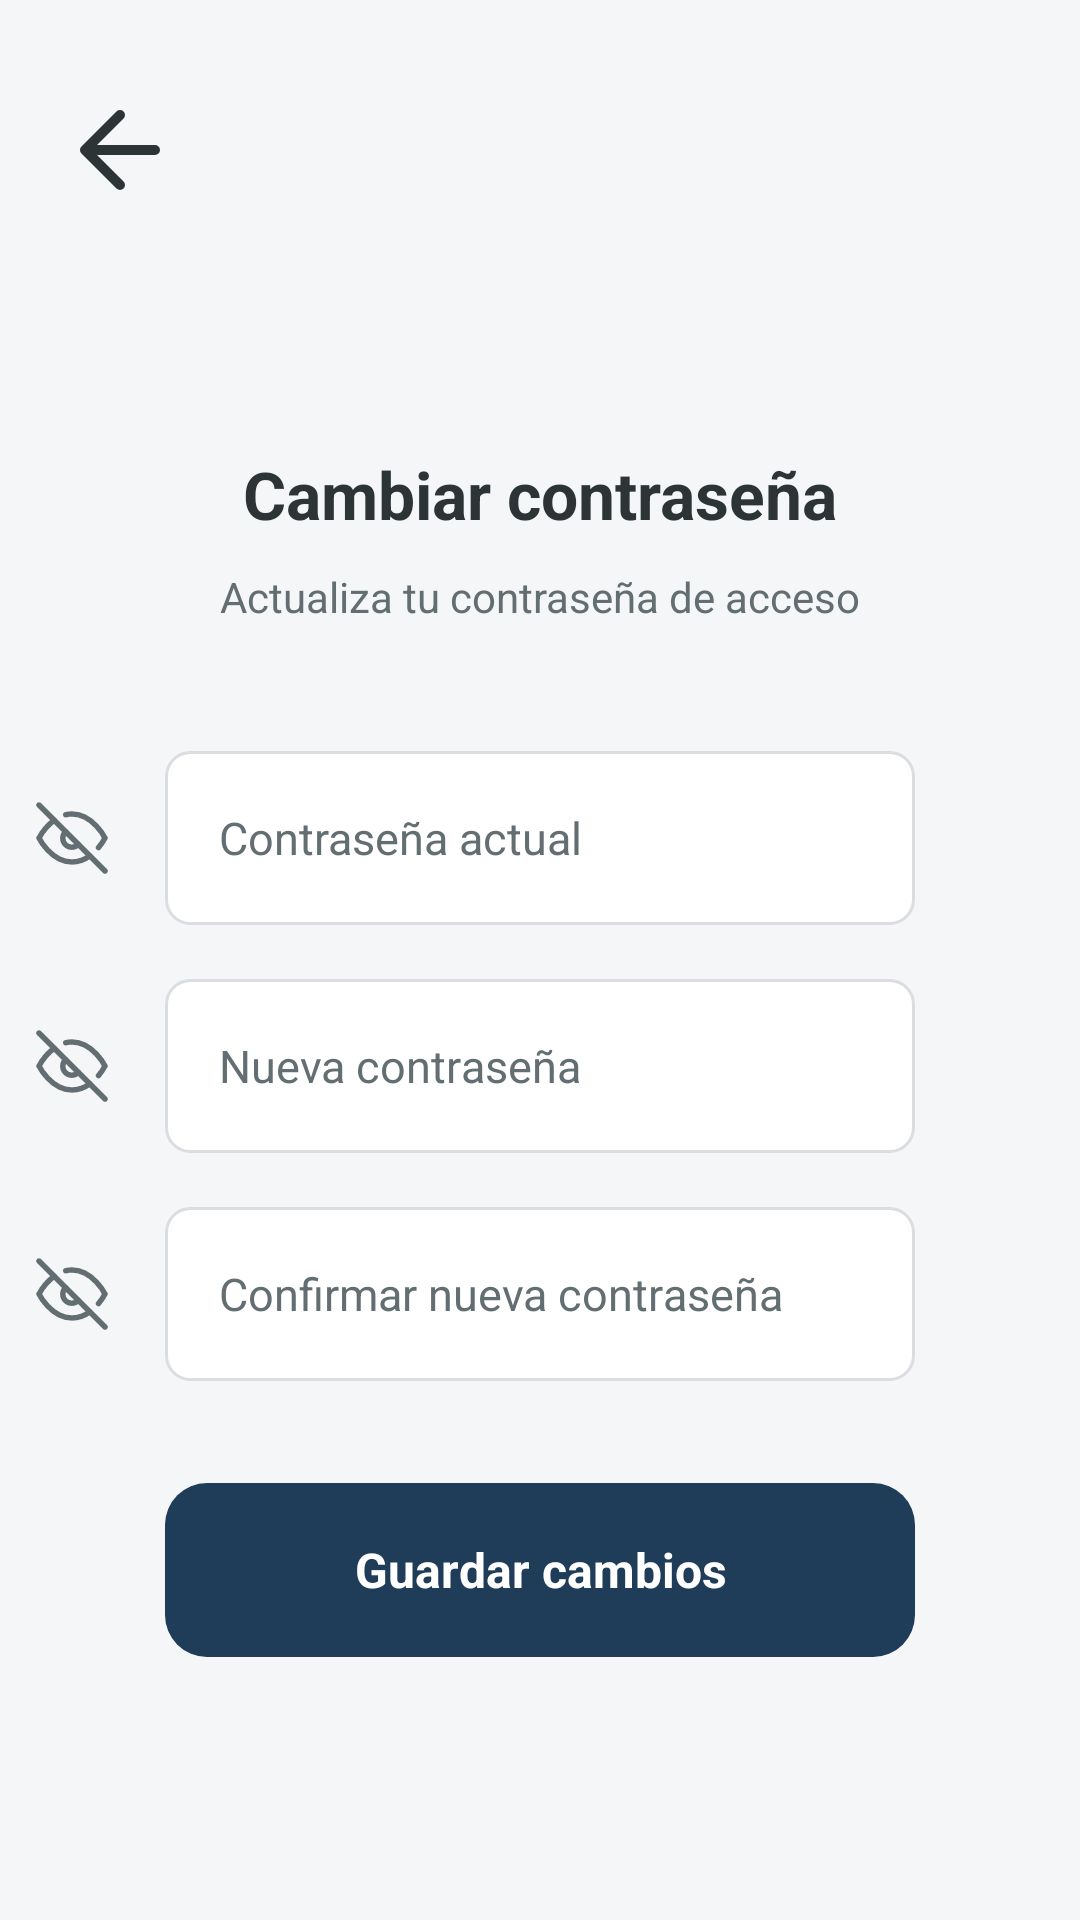

Locate icon controls on the screen. Image size 1080px x 1920px, boxes as bbox=[x1, y1, x2, y2].
flecha atras: bbox=[80, 110, 160, 190]
ojo off: bbox=[36, 802, 108, 874], bbox=[36, 1030, 108, 1102], bbox=[36, 1258, 108, 1330]
